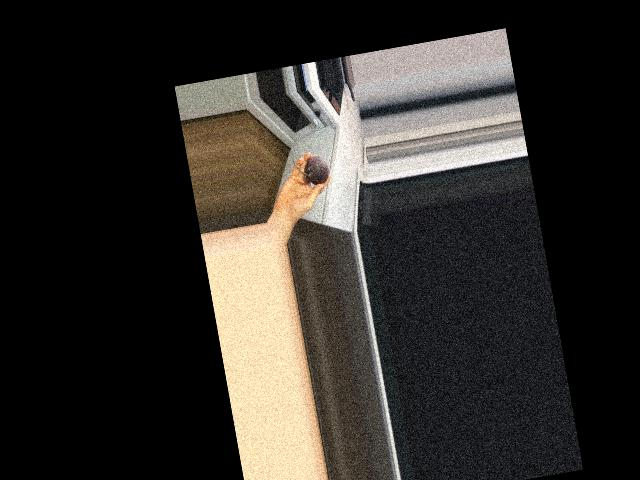beet: (291, 151, 330, 188)
